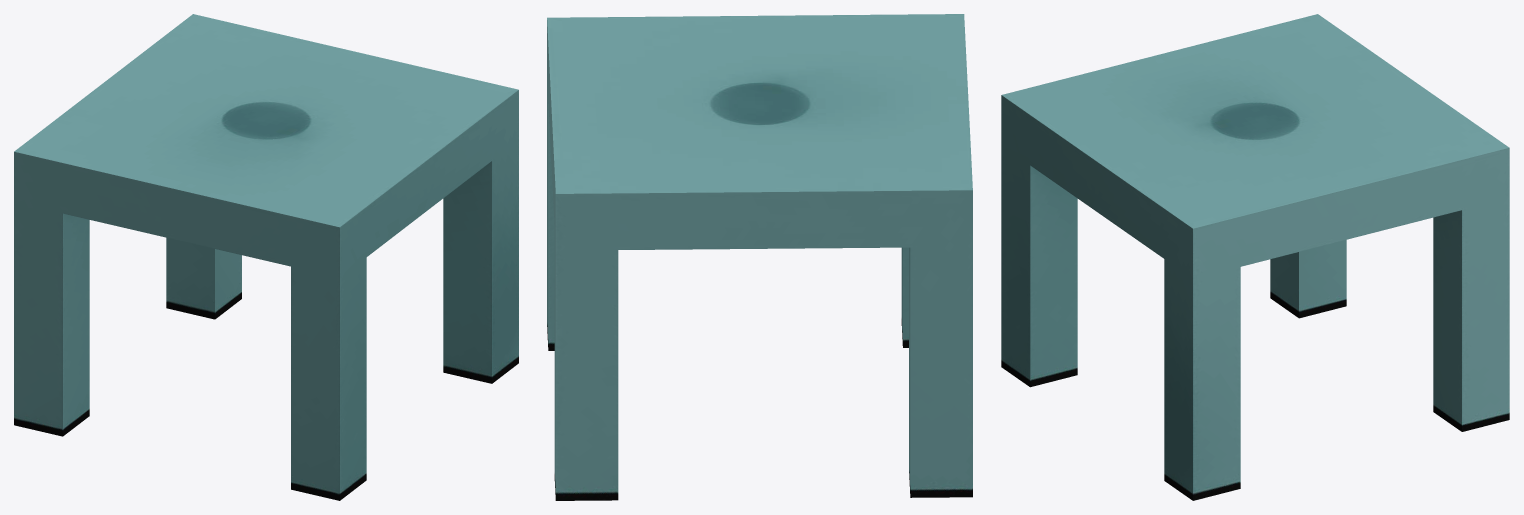
The model's file is table.glb.
The picture shows the model from 3 angles, left to right: view 1: azimuth 30°, elevation 25°; view 2: azimuth 150°, elevation 25°; view 3: azimuth 270°, elevation 25°; orthographic projection. The views are drawn at different scales.
Visible parts, largest first — view 1: Sidetable; view 2: Sidetable; view 3: Sidetable.
Boxes of the visible parts, bbox=[...] form: Sidetable: bbox=[14, 14, 518, 500]; Sidetable: bbox=[547, 14, 972, 500]; Sidetable: bbox=[1001, 14, 1509, 500].
Size of the model in its own units: 0.8831 by 0.522 by 0.8831.
1 material, 1 textured.
